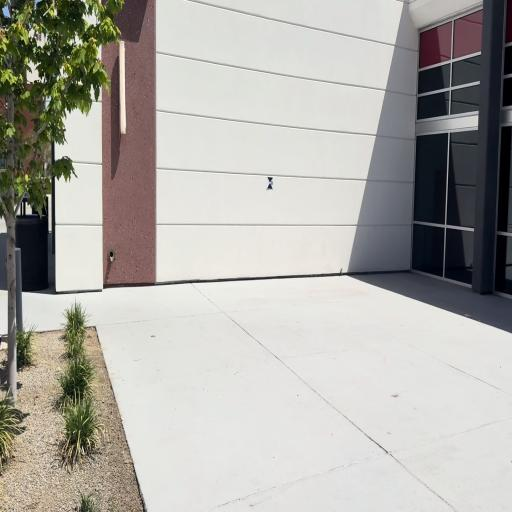target0: (267, 176, 273, 190)
